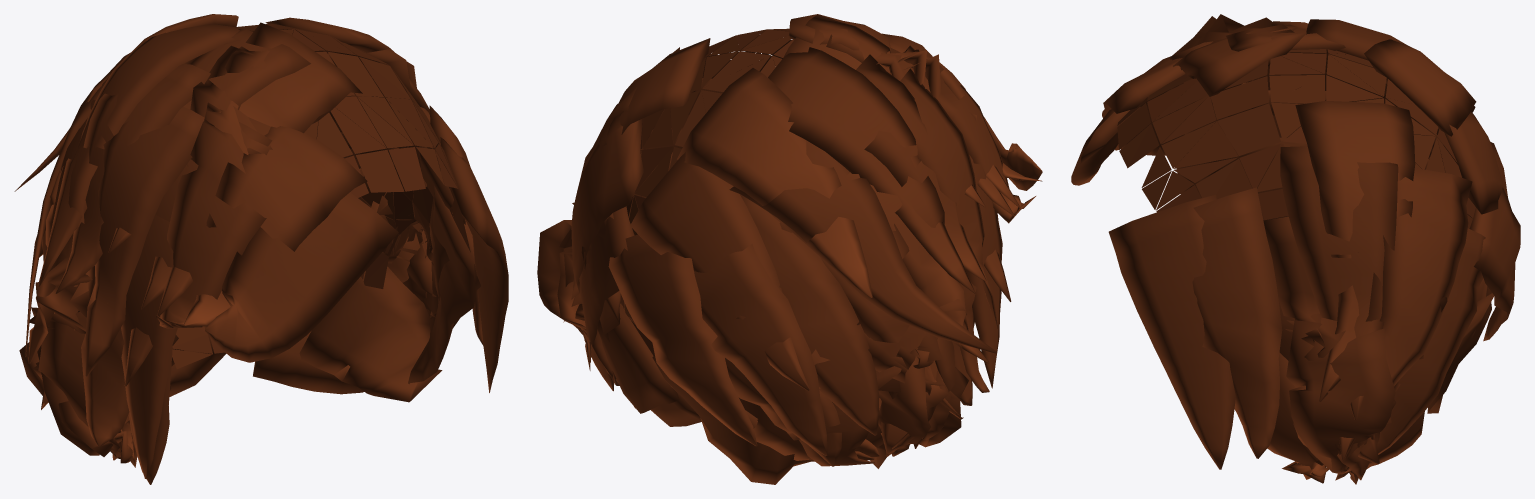
Rendered from kopf.haar.seitenbob.glb.
3 views of the same model, side by side, from view 1: azimuth 30°, elevation 25°; view 2: azimuth 150°, elevation 25°; view 3: azimuth 270°, elevation 25° (orthographic). The views are drawn at different scales.
Parts seen in each view (by area): view 1: haar; view 2: haar; view 3: haar.
Boxes of the visible parts, box(x1,y1,x2,y2) form: haar: box(14, 14, 508, 484); haar: box(537, 14, 1042, 484); haar: box(1071, 14, 1520, 484).
Bounding box in the file's own units: 0.2731 × 0.24 × 0.2466.
